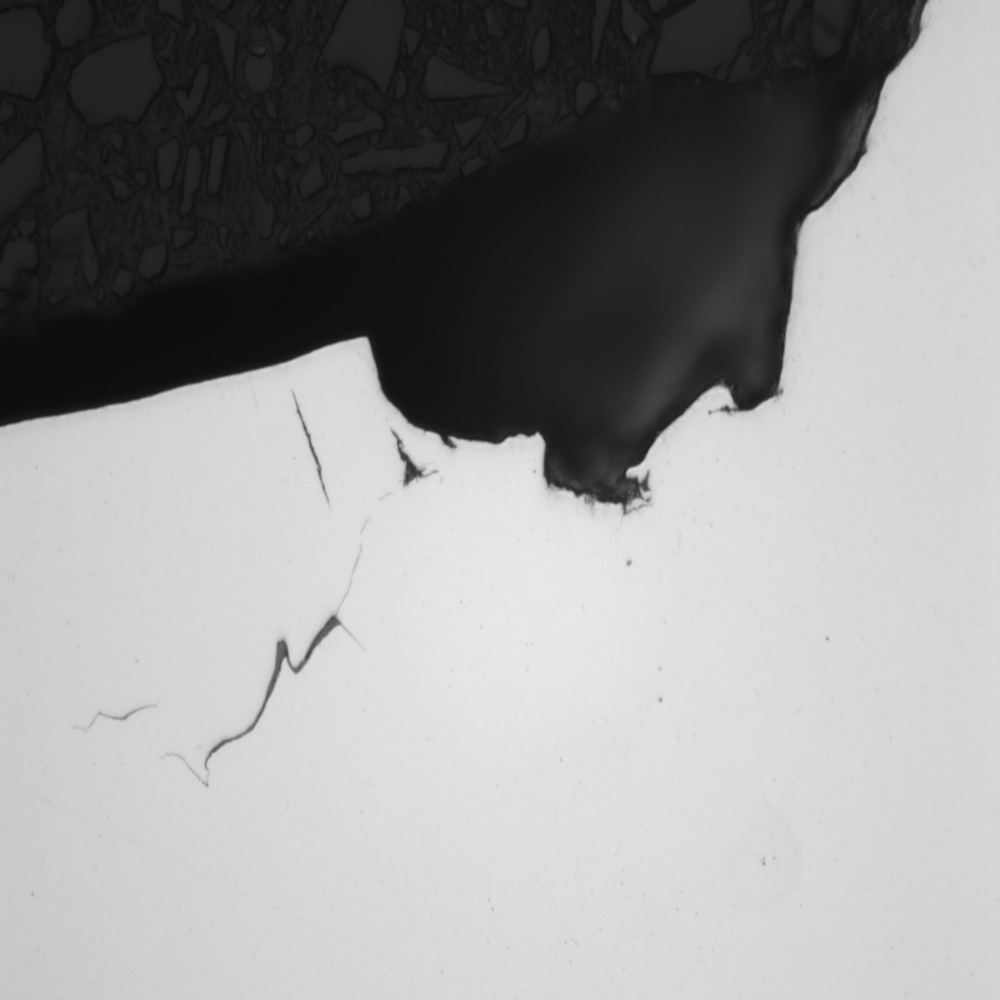crack: (154, 334, 457, 825)
